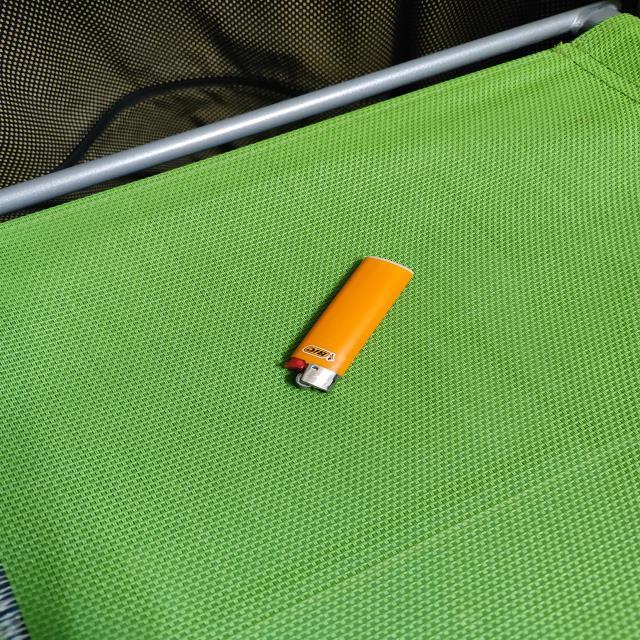lighter: (285, 258, 412, 389)
